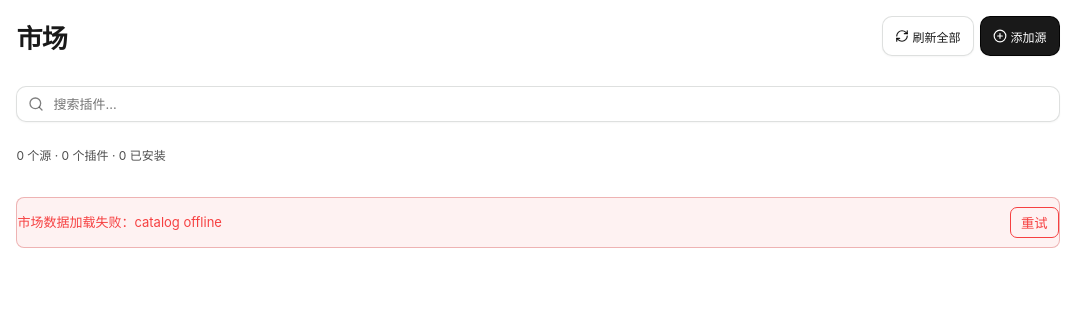
Scenario: MarketplacePanel 外部链接 › 首次加载失败不伪装成空市场，并可重试
Expected: the message shows "catalog offline", [134,214,222,230]
Click the button "重试".
click(1034, 222)  # box [1010,207,1059,238]
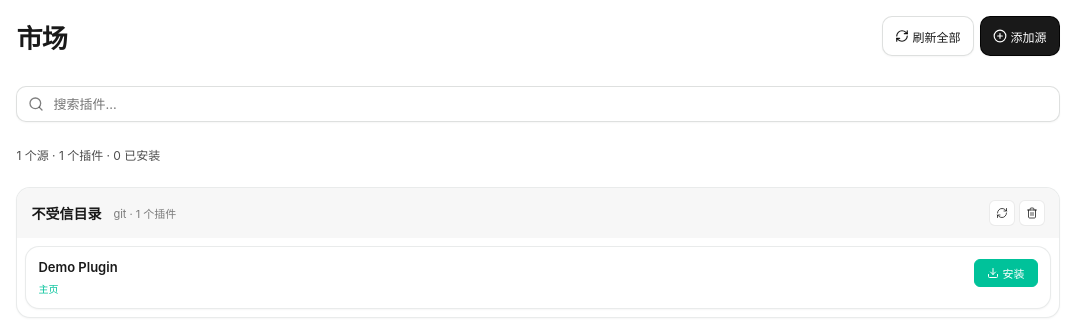
Expected: the text "Demo Plugin" is shown, [38,259,118,275]
